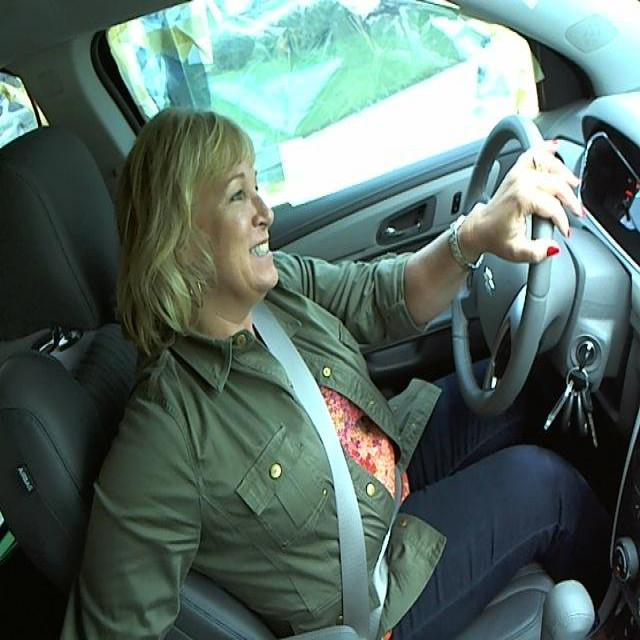seatbelt: (274, 339, 404, 625)
